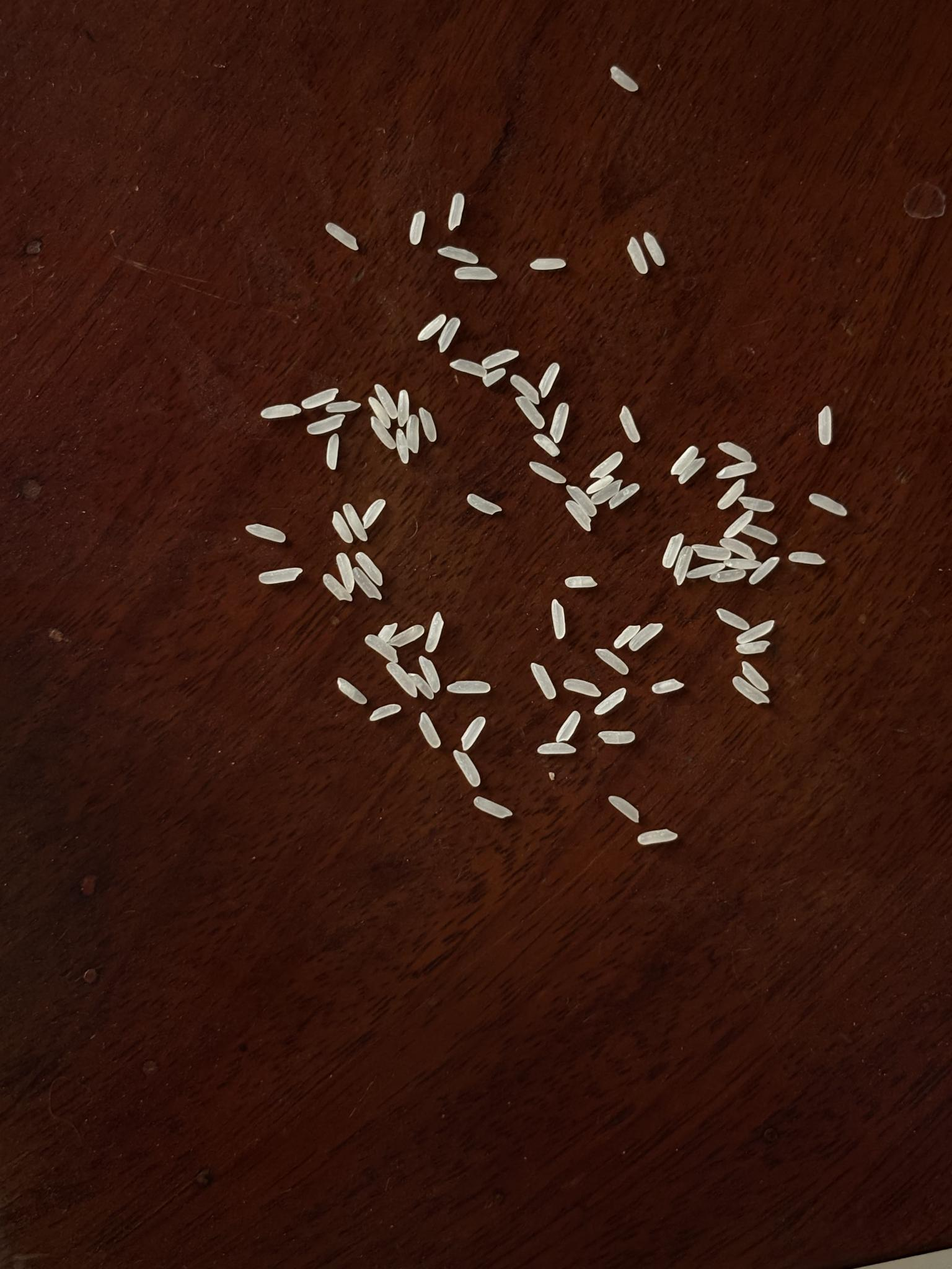Rice-th-y-nh: (386, 662, 418, 697), (452, 749, 481, 787), (342, 503, 368, 542), (733, 677, 769, 704), (567, 485, 597, 517), (629, 623, 663, 651), (365, 634, 399, 662), (516, 397, 545, 429), (356, 552, 383, 586), (510, 375, 540, 405), (531, 663, 556, 699), (749, 556, 780, 585), (672, 546, 695, 585), (590, 452, 623, 479), (326, 223, 359, 250), (596, 648, 629, 675), (720, 537, 757, 561), (461, 716, 486, 751), (353, 569, 382, 599), (718, 479, 746, 510), (723, 510, 754, 538), (323, 573, 352, 602), (374, 384, 398, 419), (609, 796, 640, 823), (737, 621, 775, 643), (474, 797, 512, 819), (595, 688, 627, 714), (369, 417, 395, 449), (418, 712, 441, 748), (418, 656, 441, 692), (671, 446, 699, 475), (337, 678, 367, 705), (742, 661, 769, 691), (556, 711, 581, 743), (809, 494, 847, 515), (626, 238, 648, 274), (438, 318, 461, 352), (619, 406, 640, 443), (591, 480, 622, 505), (566, 501, 591, 531), (643, 232, 665, 266), (662, 534, 684, 568), (390, 625, 424, 647), (609, 484, 640, 508), (246, 524, 285, 543), (530, 462, 565, 483), (678, 458, 706, 484), (610, 66, 638, 92), (438, 246, 478, 264), (539, 363, 560, 397), (717, 608, 749, 630), (308, 415, 345, 434), (336, 554, 355, 591), (564, 678, 601, 697), (426, 613, 444, 652), (551, 403, 569, 442), (409, 673, 435, 700), (259, 568, 302, 584), (302, 389, 338, 408), (369, 397, 391, 428), (467, 494, 501, 514), (418, 315, 445, 340), (362, 499, 386, 527), (332, 512, 353, 544), (717, 462, 756, 479), (744, 525, 778, 544), (454, 266, 497, 281), (719, 442, 751, 462), (451, 359, 486, 377), (448, 193, 465, 230), (537, 740, 576, 756), (419, 407, 437, 441), (693, 545, 731, 561), (551, 599, 566, 639), (614, 625, 640, 648), (483, 350, 518, 367), (638, 829, 677, 844), (448, 680, 489, 694), (739, 496, 774, 512), (534, 434, 559, 456), (369, 704, 401, 721), (688, 563, 724, 578), (710, 568, 746, 583), (262, 404, 300, 418), (818, 406, 832, 444), (409, 211, 425, 244), (599, 730, 635, 744), (395, 430, 410, 463), (406, 415, 419, 453), (789, 551, 825, 564), (726, 558, 761, 571), (586, 477, 614, 493), (652, 679, 684, 693), (327, 434, 339, 469), (530, 258, 565, 270), (736, 642, 770, 654), (326, 401, 360, 413), (397, 391, 409, 425), (377, 623, 398, 642), (483, 368, 505, 386), (565, 576, 597, 587)
